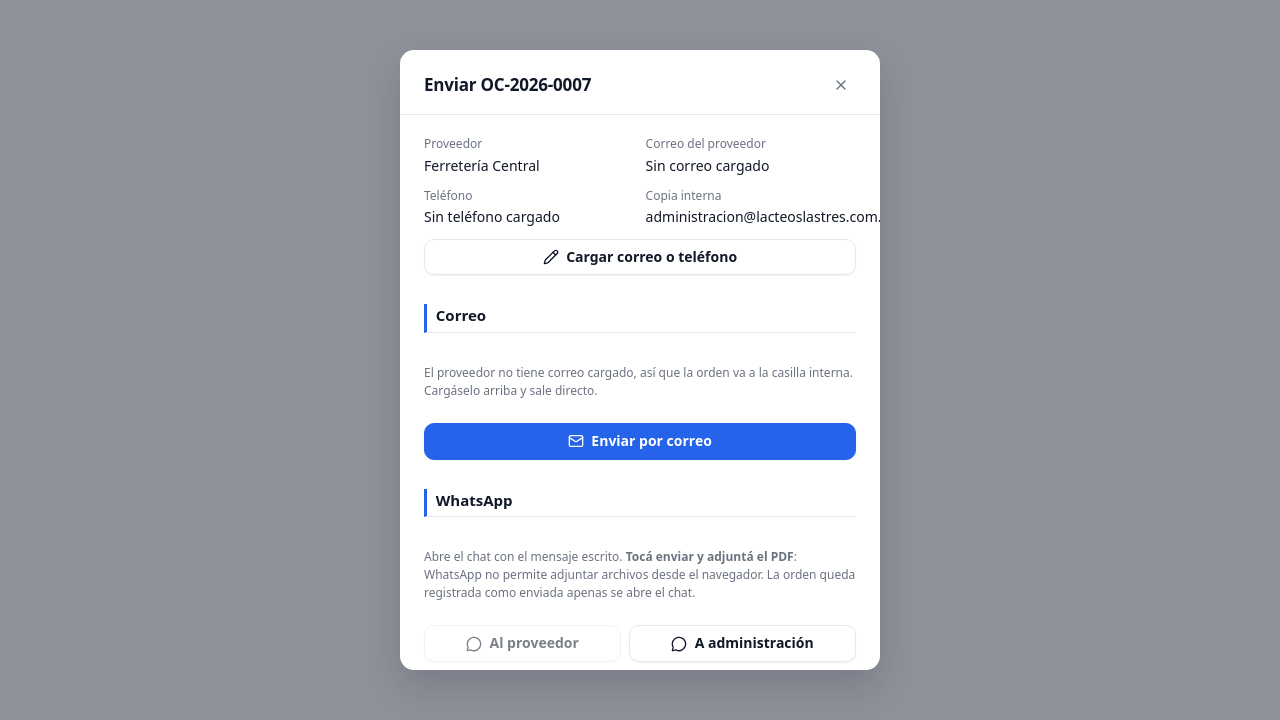
EnviarOrden — cargar el contacto del proveedor › REGRESION: no deja guardar un correo que no es un correo
The image size is (1280, 720).
Click the button "Cargar correo o teléfono": (640, 257) [424,238,856,275]
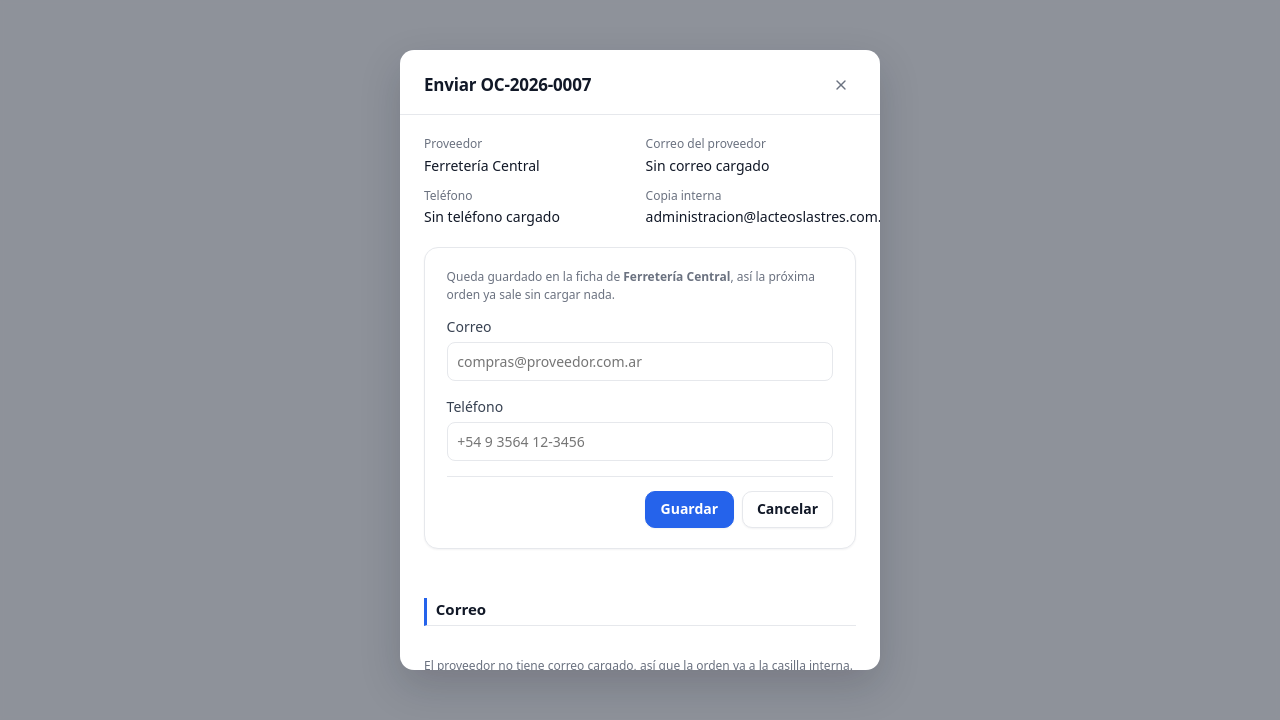
In the field with placeholder "compras@proveedor.com.ar": (640, 362) [447,342,833,381], type "esto-no-es"
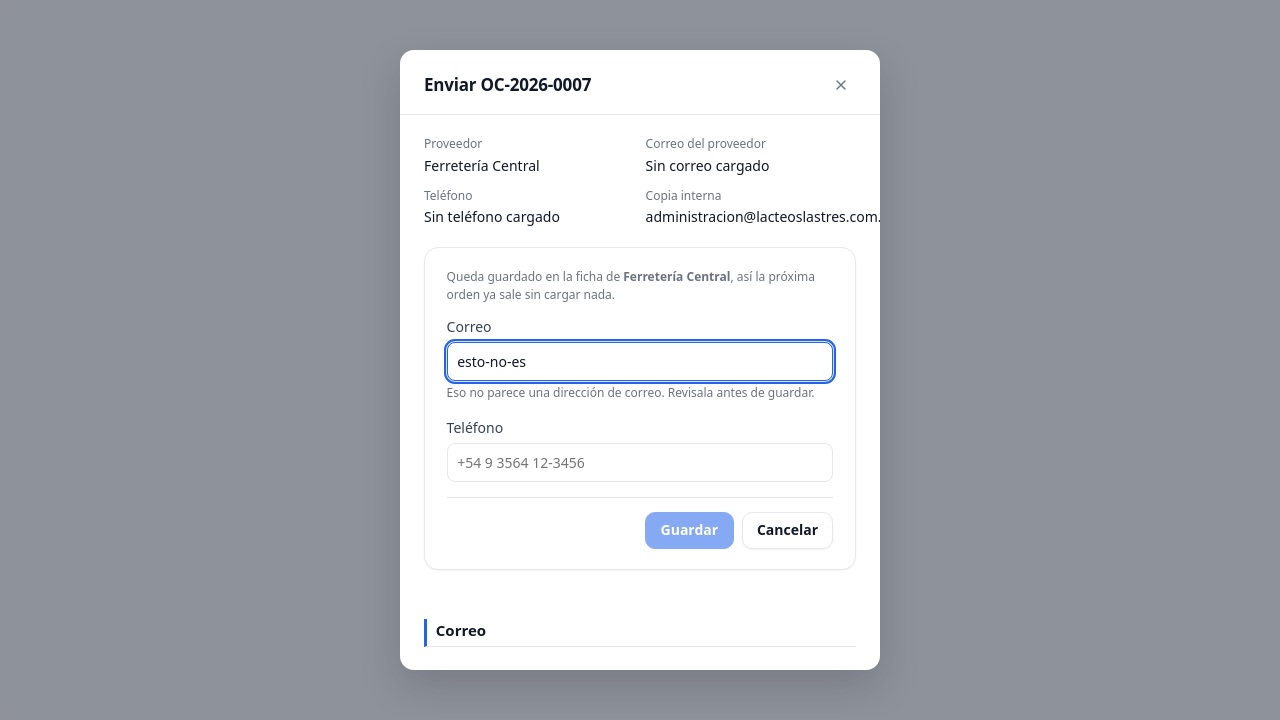
Now the button "Guardar" is disabled, box [645,512,734,549]
Now the text "no parece una dirección" is shown, box [447,384,814,401]
